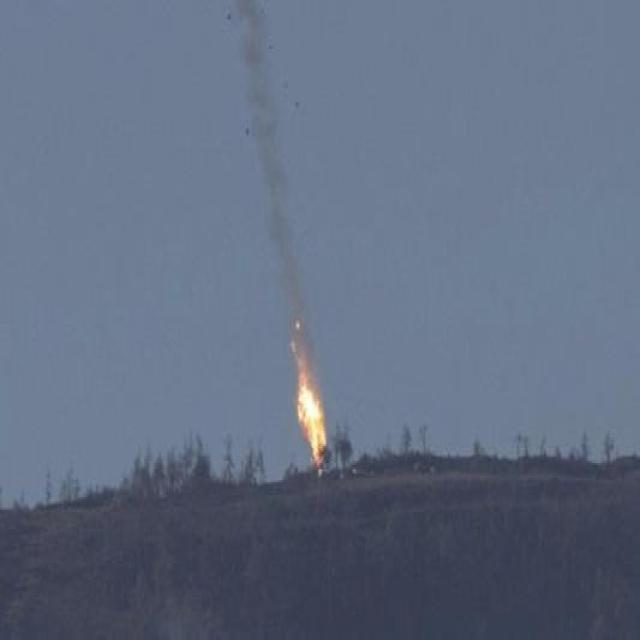fire: (288, 364, 325, 469)
smoke: (248, 96, 283, 236), (281, 249, 309, 348), (242, 21, 261, 78)
